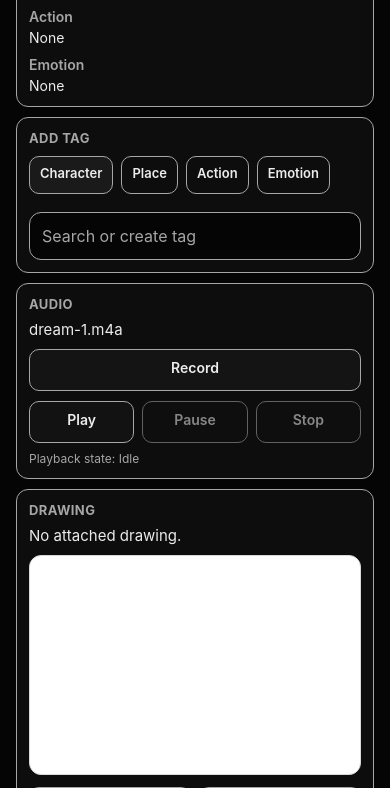
DreamDetailScreenView › transitions play, pause, and stop with a mocked audio player
(page scrolled)
Click the button with test id "dream-detail-audio-play-button" at (82, 422), box [29, 401, 134, 443]
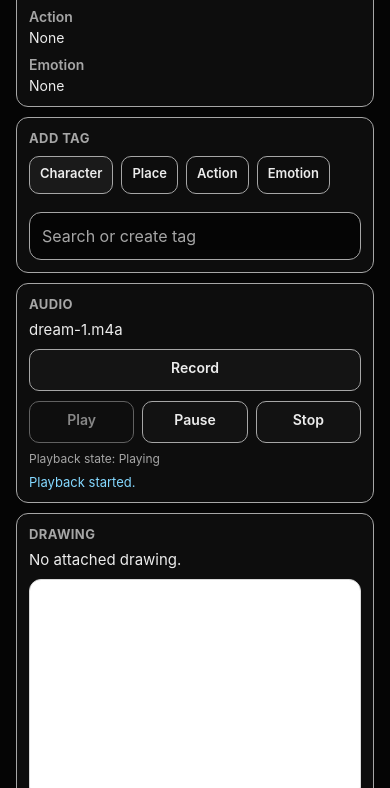
Check: the text with test id "dream-detail-audio-playback-state" reads "Playback state: Playing", box [29, 451, 160, 466]
Click the button with test id "dream-detail-audio-pause-button" at (195, 422), box [142, 401, 248, 443]
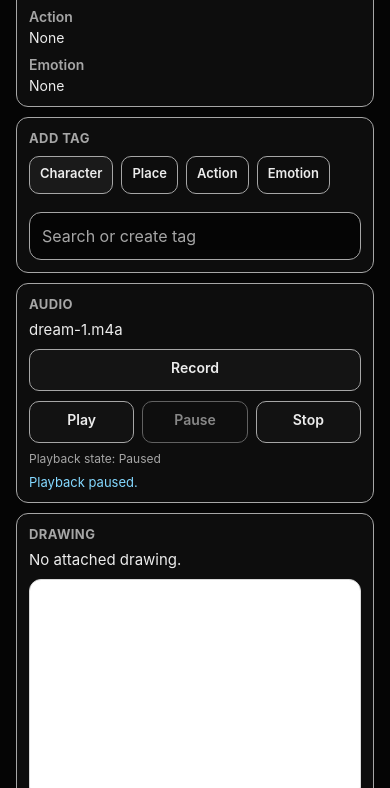
Check: the text with test id "dream-detail-audio-playback-state" reads "Playback state: Paused", box [29, 451, 161, 466]
Check: the text "Playback paused." is shown, box [29, 474, 138, 490]
Click the button with test id "dream-detail-audio-play-button" at (82, 422), box [29, 401, 134, 443]
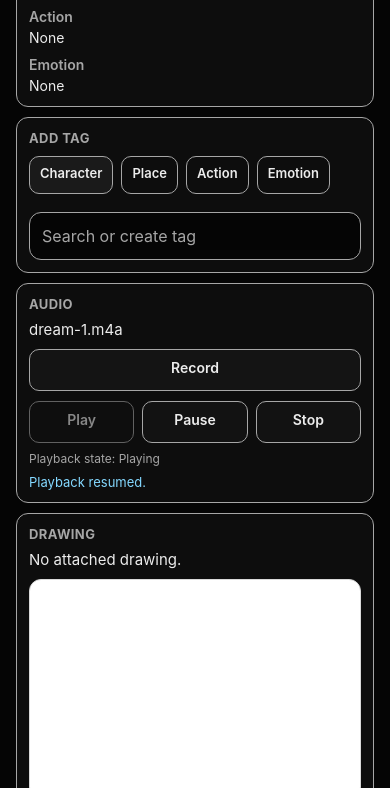
Check: the text "Playback resumed." is shown, box [29, 474, 146, 490]
Click the button with test id "dream-detail-audio-stop-button" at (308, 422), box [256, 401, 361, 443]
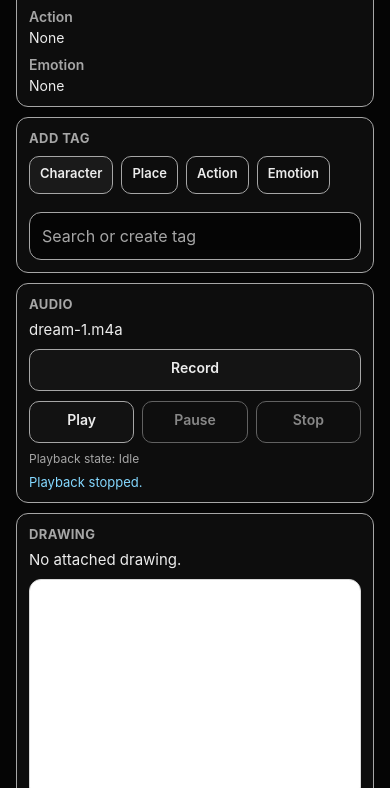
Check: the text with test id "dream-detail-audio-playback-state" reads "Playback state: Idle", box [29, 451, 139, 466]
Check: the text "Playback stopped." is shown, box [29, 474, 142, 490]
